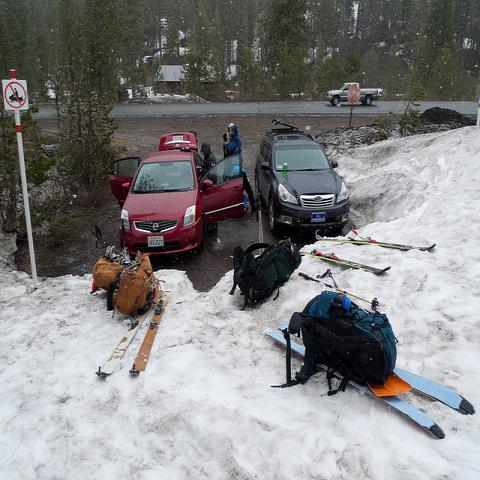car: (109, 133, 244, 260), (253, 125, 352, 233)
truck: (325, 82, 383, 106)
